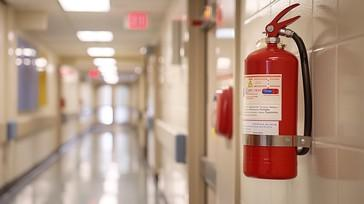wall-mounted: (228, 0, 320, 185)
